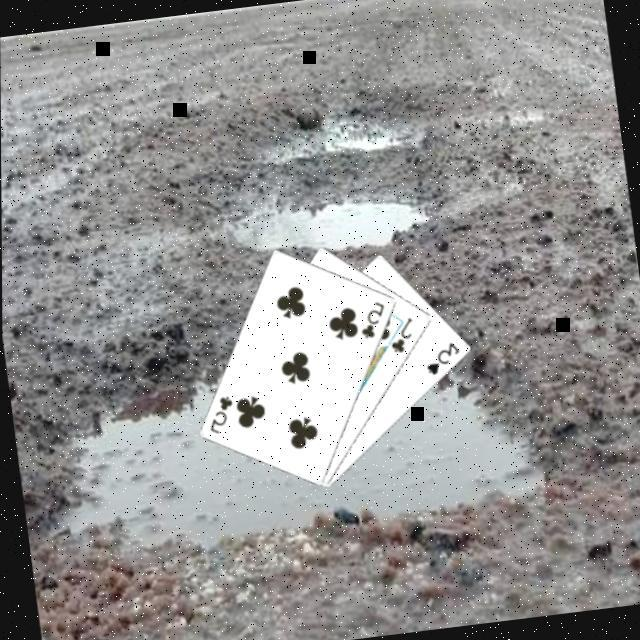3S: (421, 337, 466, 378)
5C: (203, 390, 240, 436), (356, 296, 392, 340)
JC: (386, 312, 420, 356)
